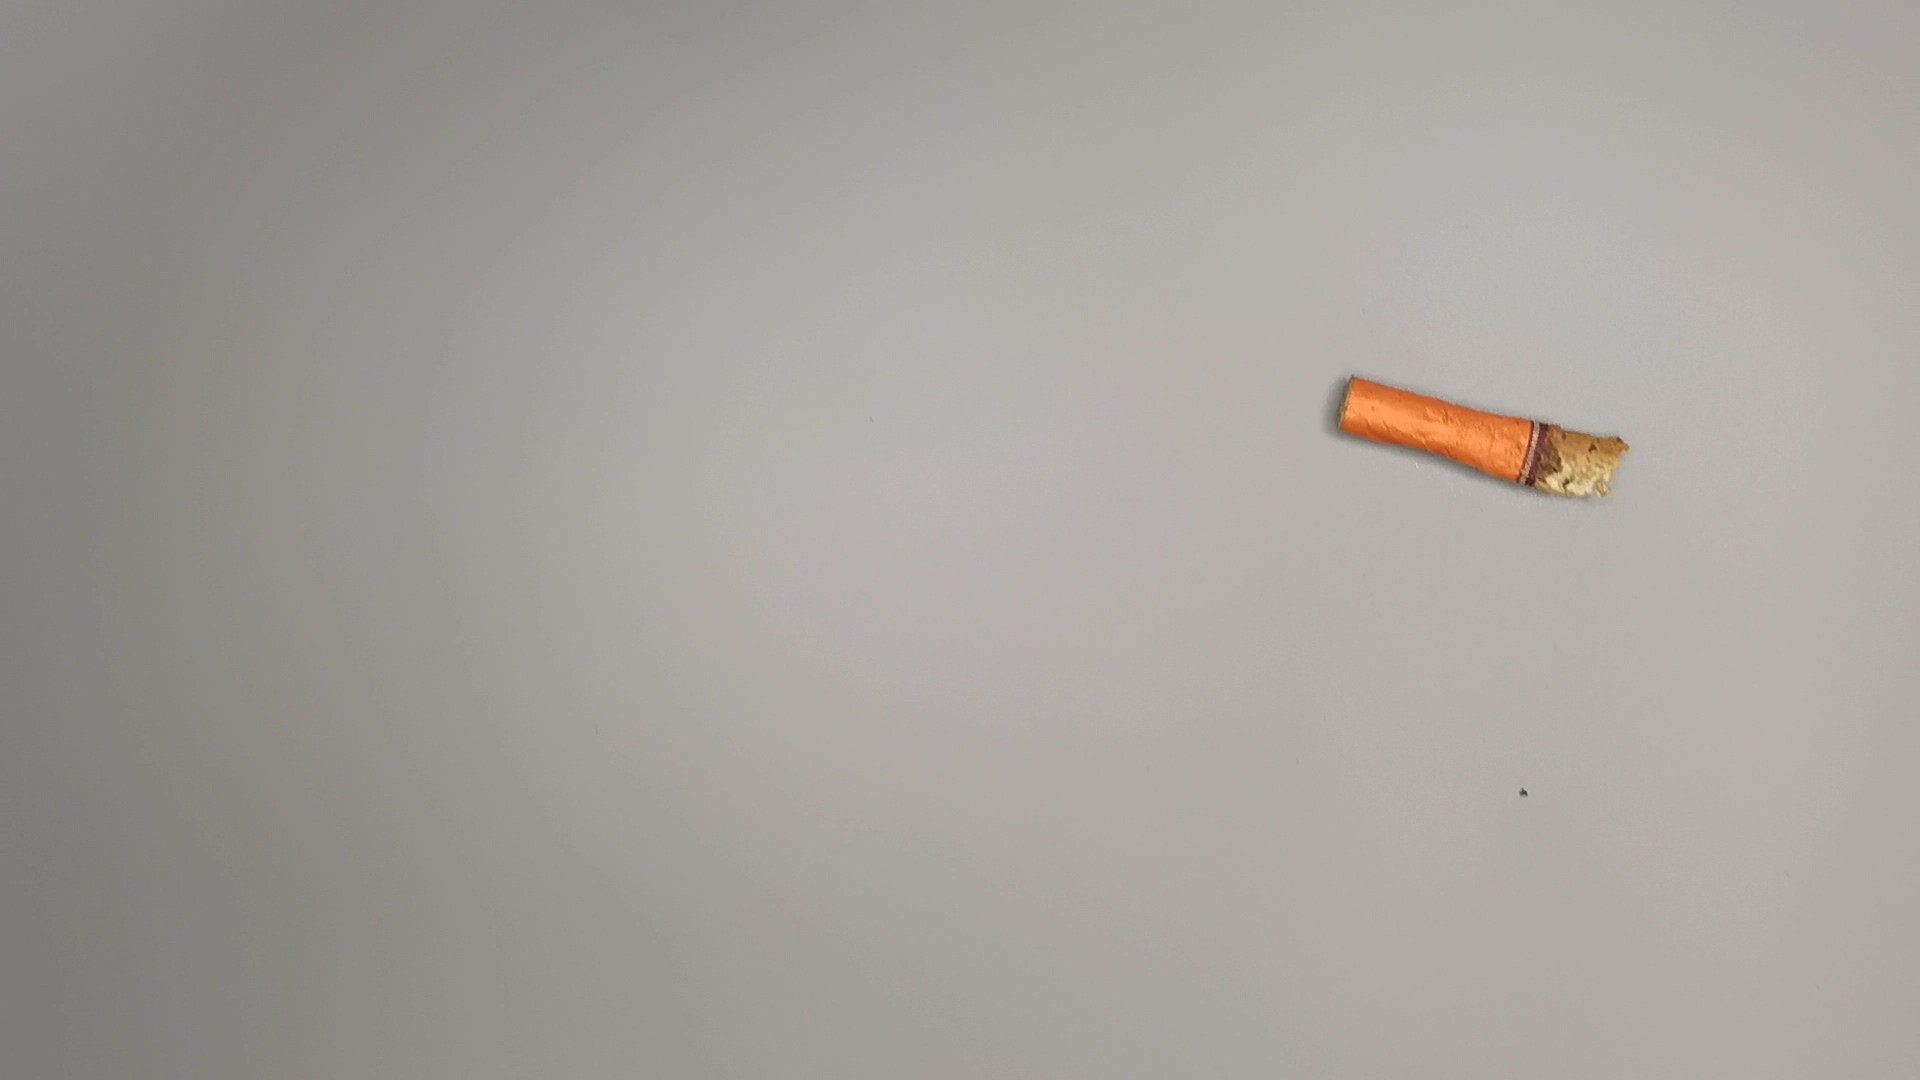cigarette: (1329, 371, 1636, 506)
